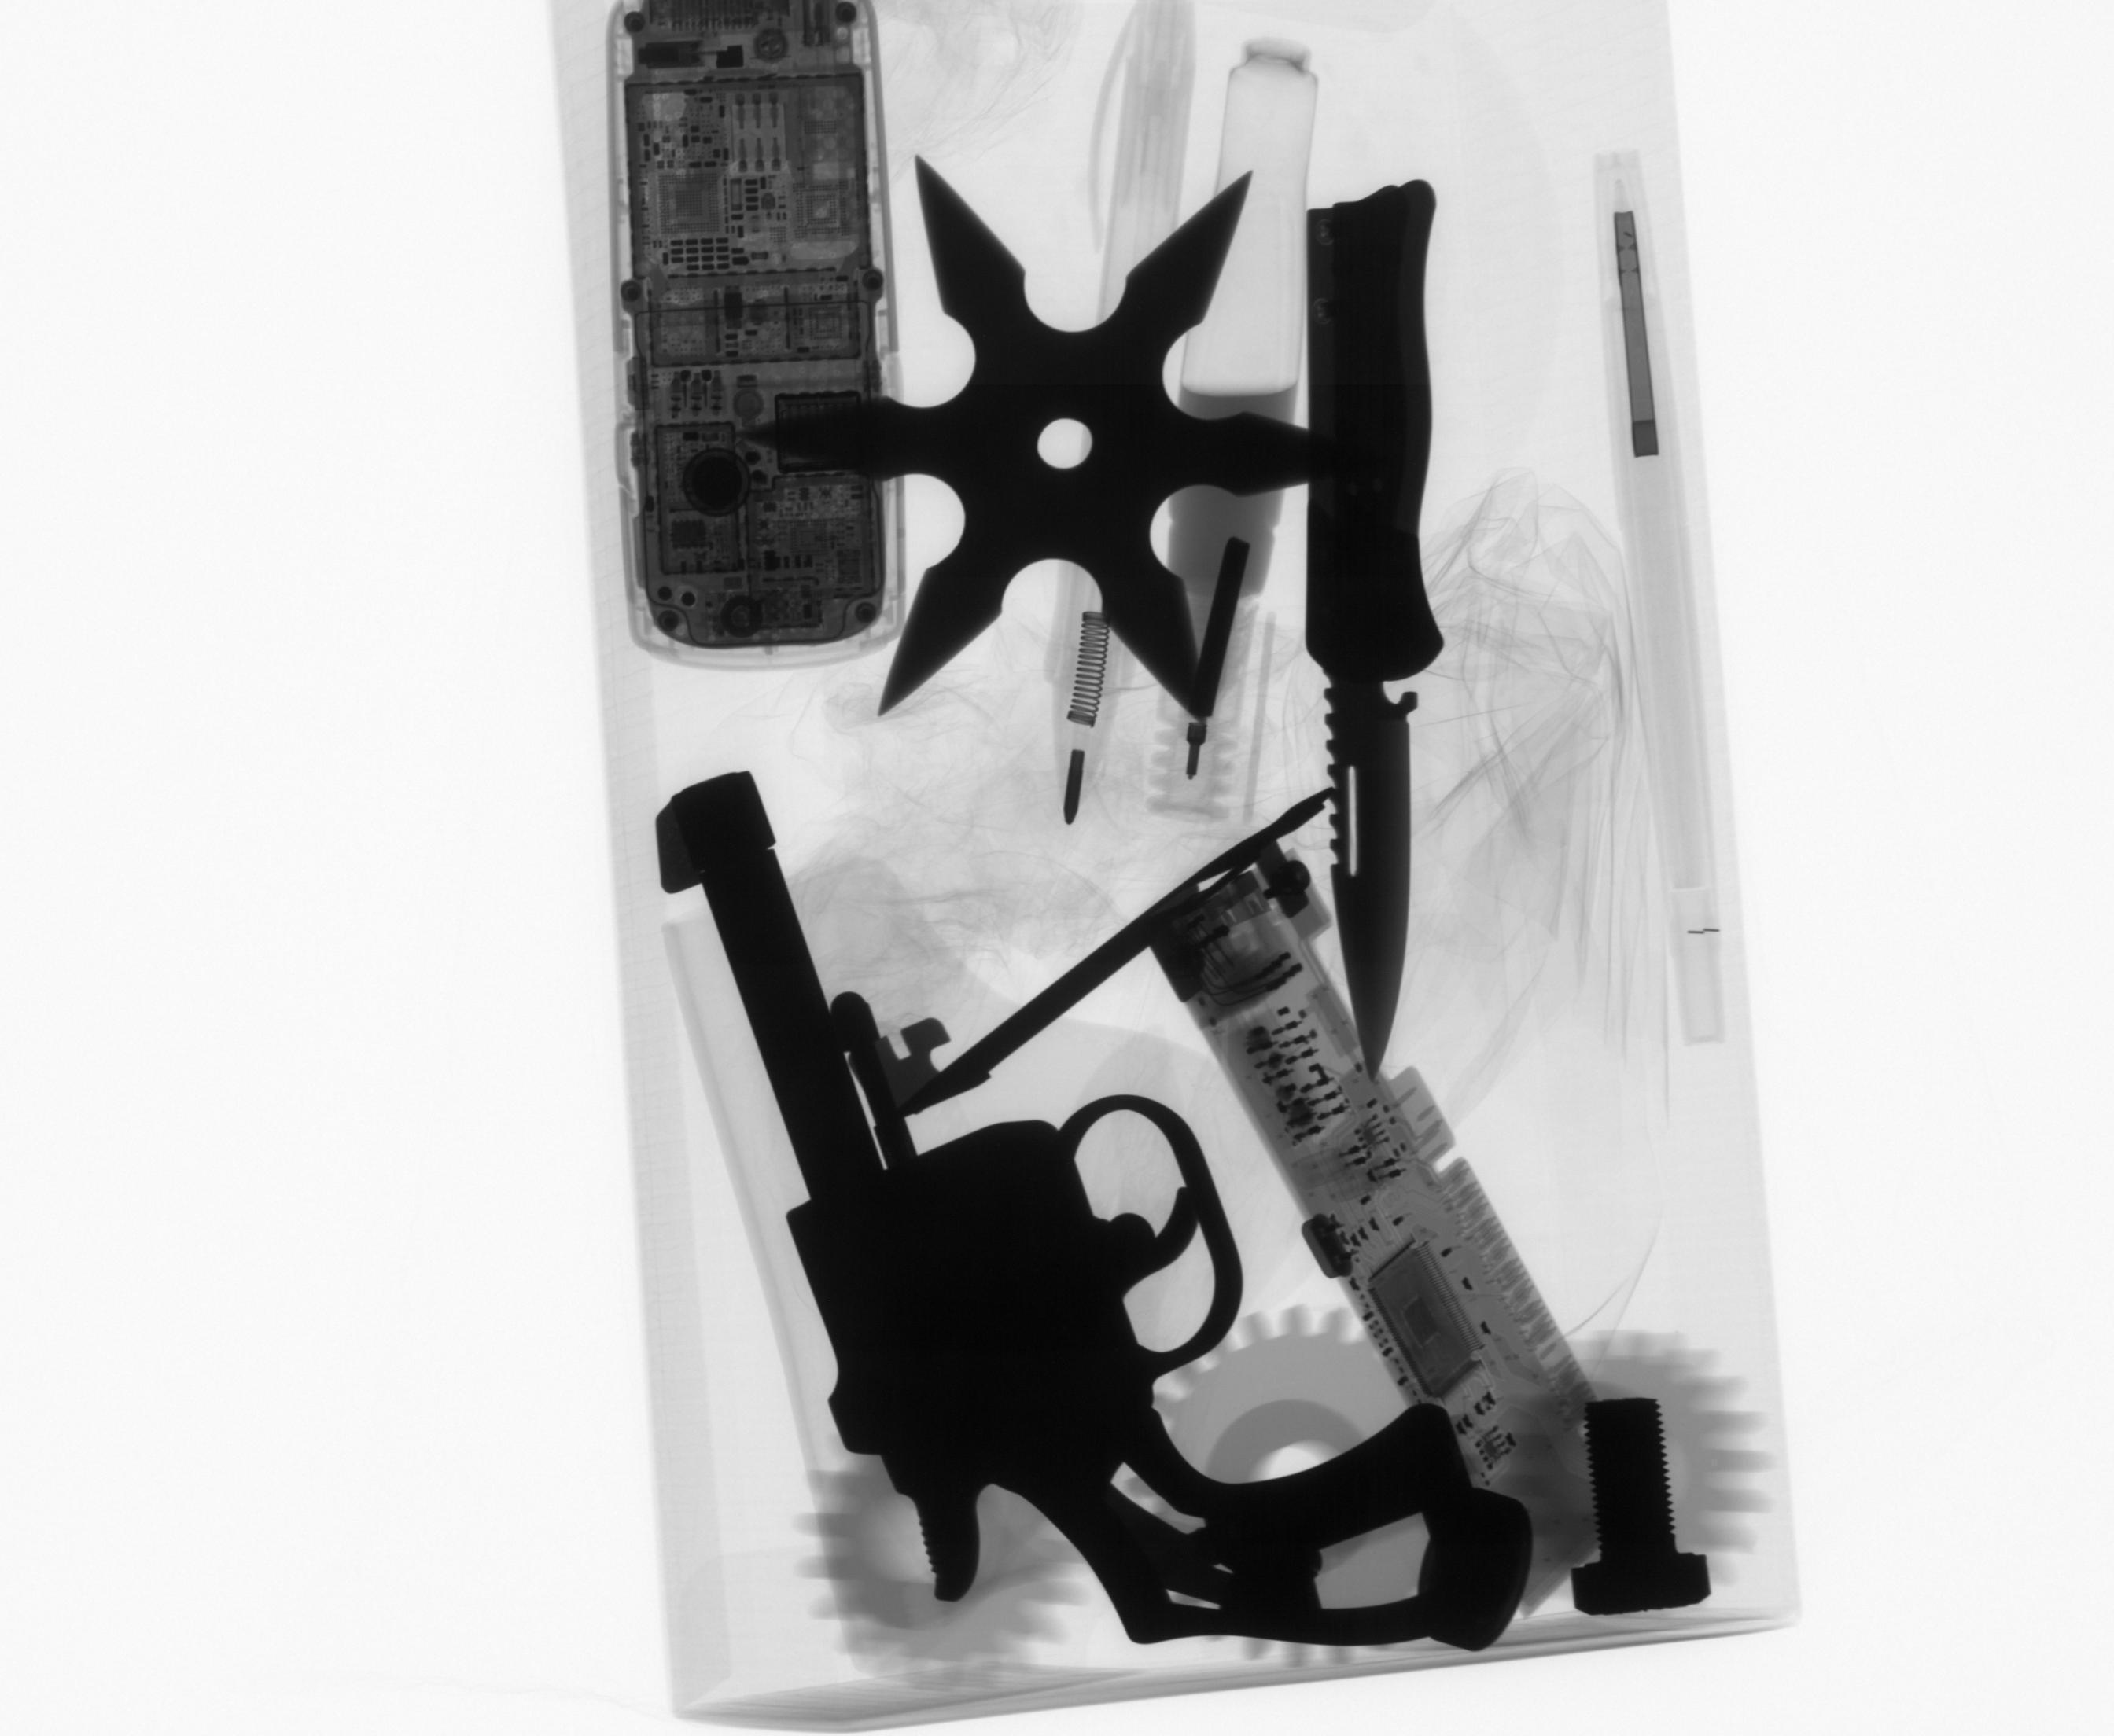Handgun: (646, 759, 1511, 1656)
Knife: (1298, 165, 1451, 1094)
Shuriken: (728, 146, 1370, 734)
